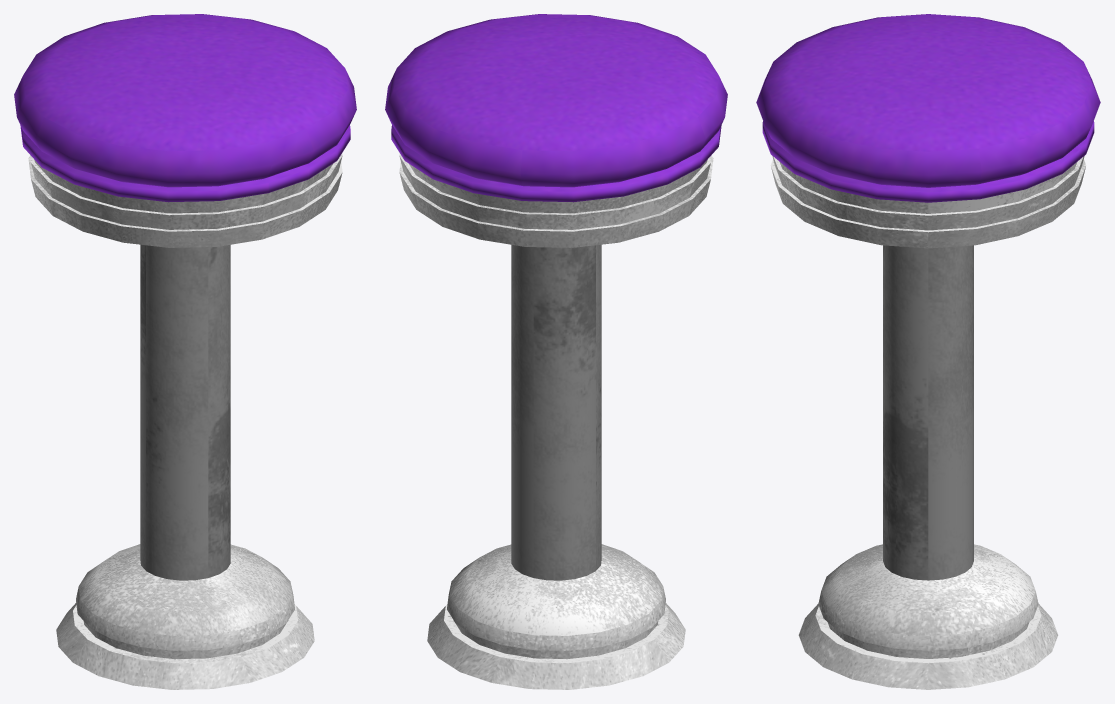
File: Purple Stool.fbx
3 renders of one model, left to right at view 1: azimuth 30°, elevation 25°; view 2: azimuth 150°, elevation 25°; view 3: azimuth 270°, elevation 25°, orthographic.
Visible parts, largest first — view 1: Purple Stool; view 2: Purple Stool; view 3: Purple Stool.
Part boxes in pixels (<box>): Purple Stool: <box>14,14,356,689</box>; Purple Stool: <box>385,14,727,689</box>; Purple Stool: <box>756,14,1100,689</box>.
Bounding box in the file's own units: 31.91 × 58.23 × 31.91.
